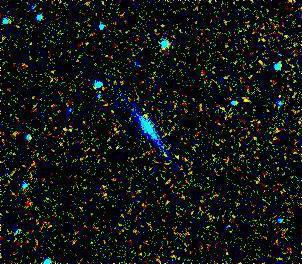star: (225, 84, 255, 114)
